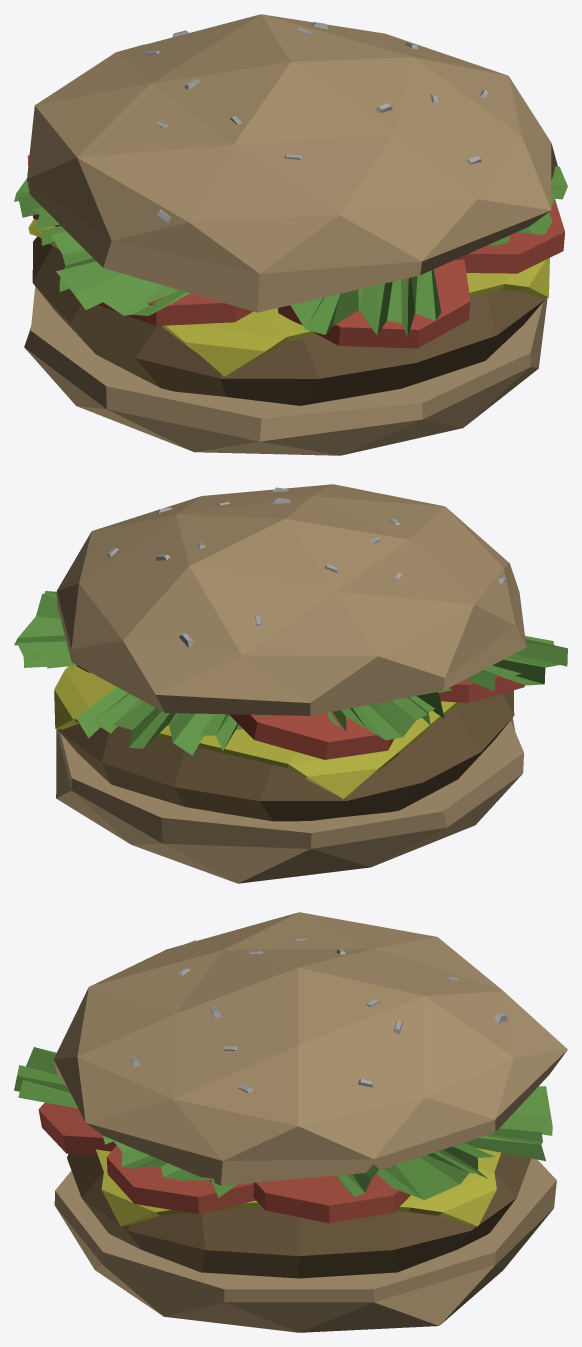
File: Burger.glb
The picture shows the model from 3 angles, top to bottom: view 1: azimuth 30°, elevation 25°; view 2: azimuth 150°, elevation 25°; view 3: azimuth 270°, elevation 25°; orthographic projection. The views are drawn at different scales.
Visible parts, largest first — view 1: Burger.001; view 2: Burger.001; view 3: Burger.001.
Part boxes in pixels (x1,y1,x2,y2): Burger.001: [14, 14, 567, 455]; Burger.001: [14, 484, 567, 883]; Burger.001: [14, 912, 567, 1332].
Size of the model in its own units: 1.32 by 0.8522 by 1.36.
